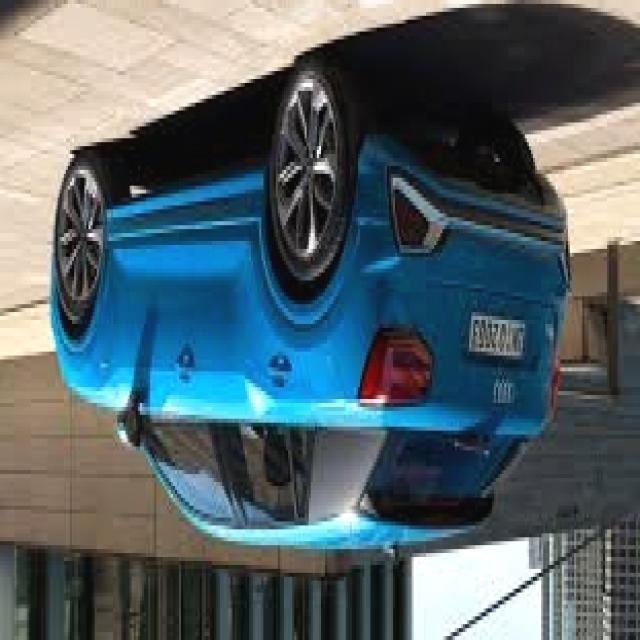blue: (52, 89, 570, 536)
